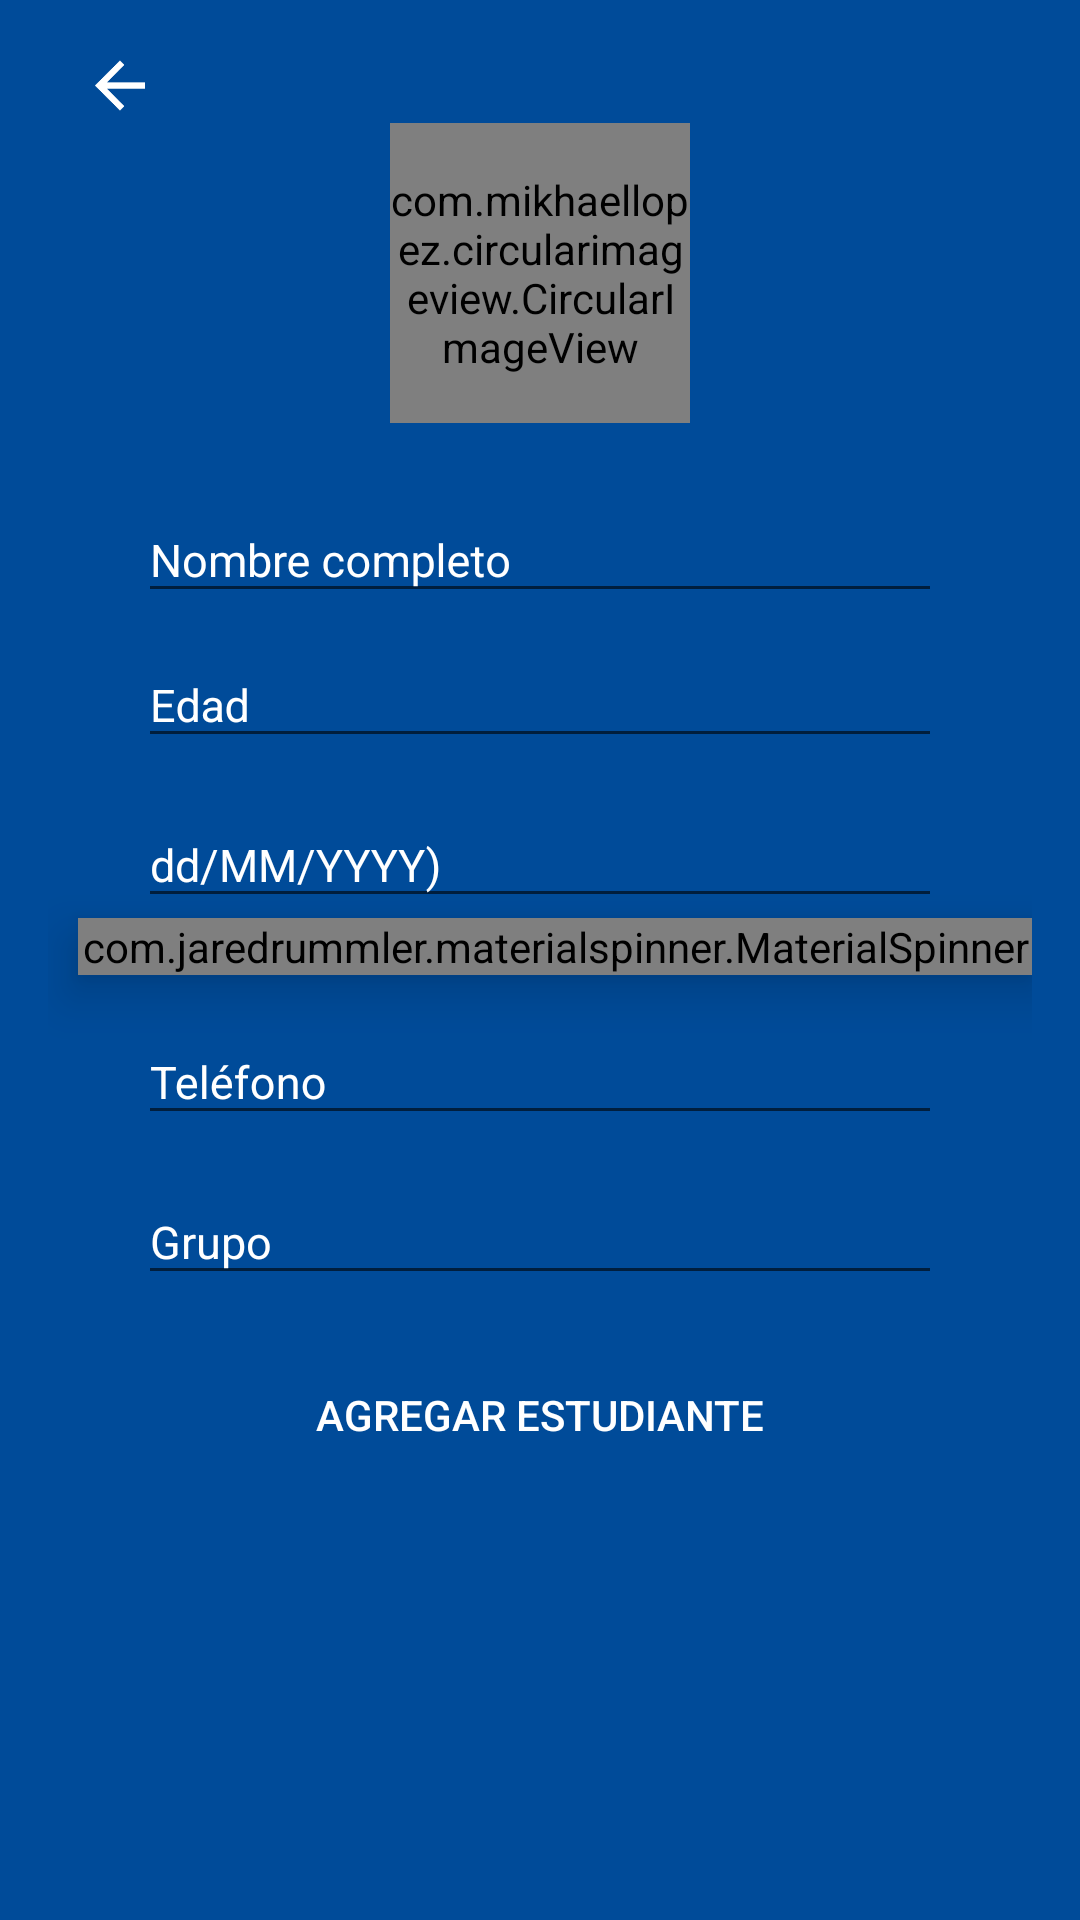

Named icons in this screenshot (1080x1920) and their bounding boxes, (x1, y1, x2, y2):
arrow back: (95, 60, 145, 111)
